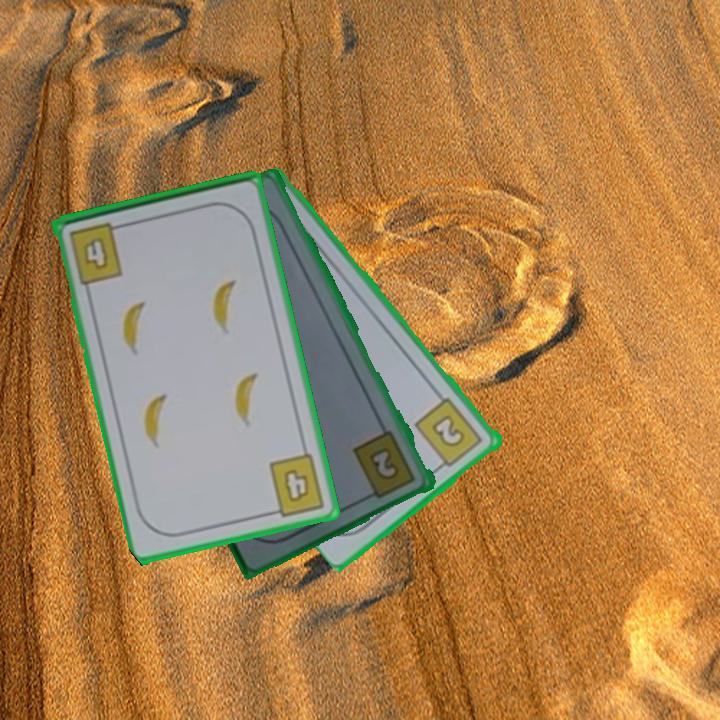2b: (411, 394, 486, 474), (349, 427, 420, 502)
4b: (265, 450, 328, 519), (65, 218, 128, 287)
